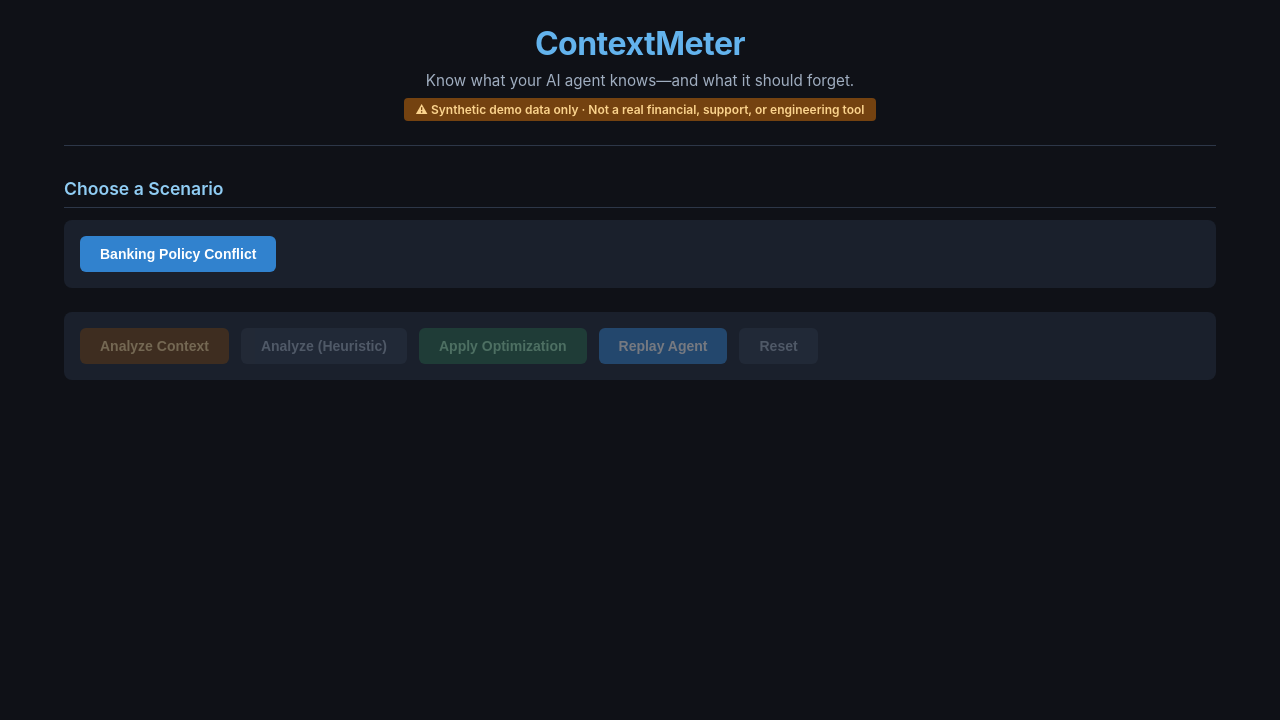
App workflow › loads a scenario
The width and height of the screenshot is (1280, 720).
Click the button "Banking Policy Conflict": (178, 254) [80,236,276,272]
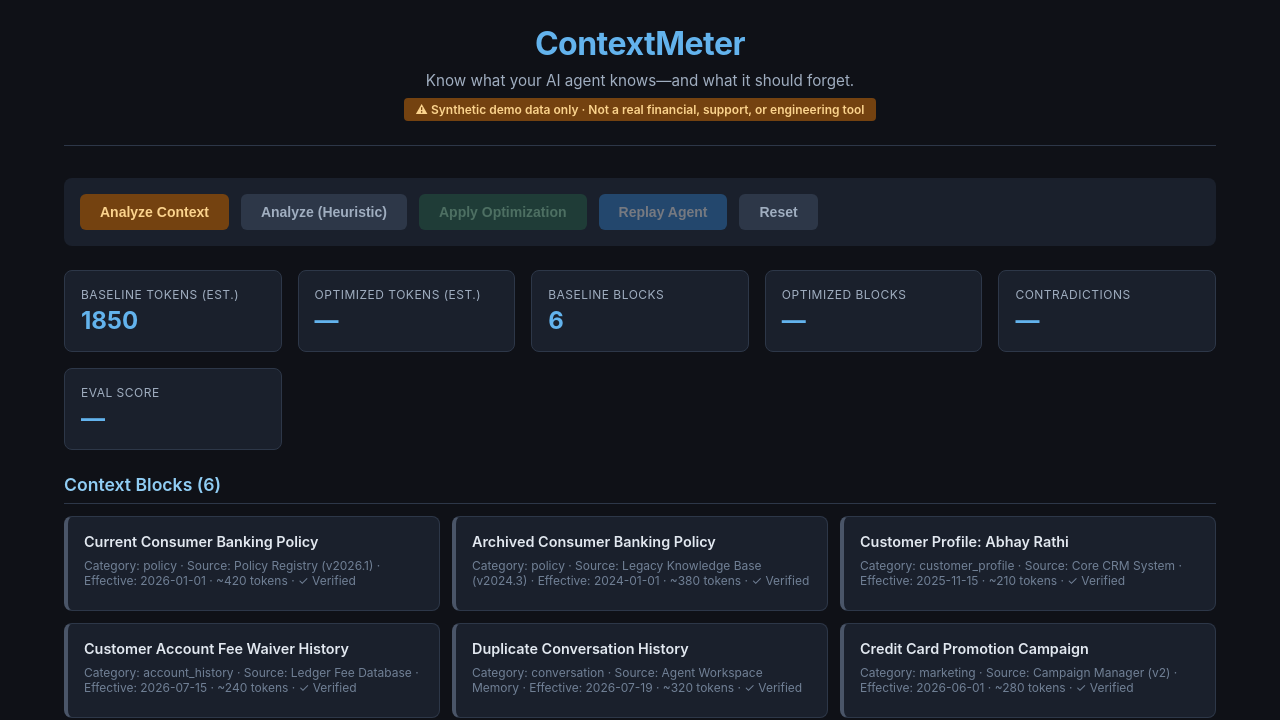
Check: the heading "Context Blocks (6)" is shown, box [64,474,1216,504]
